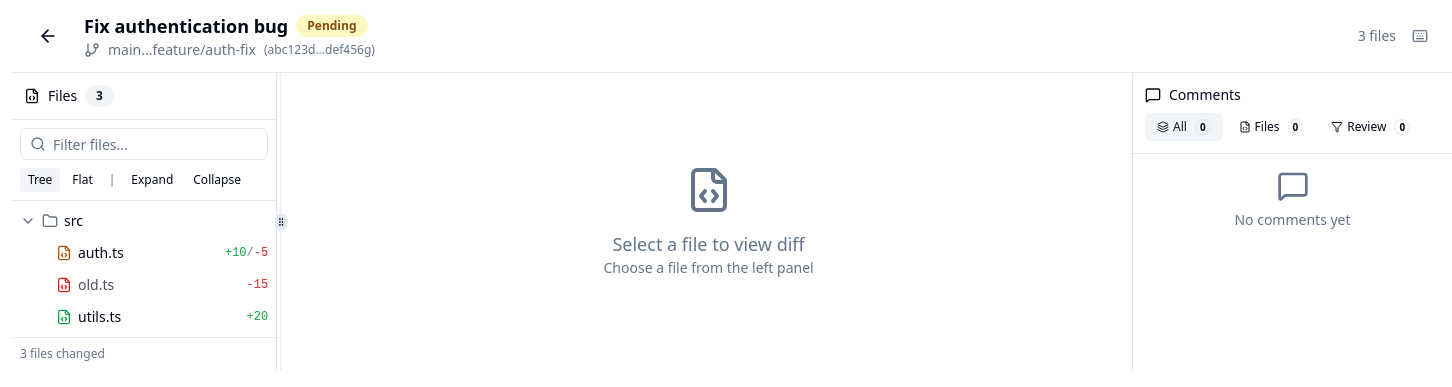
ReviewDetailPage › selects file when clicked
// Click on a file (shown as just the filename in tree view)
Click the text "auth.ts": click(101, 252) [78,243,124,262]
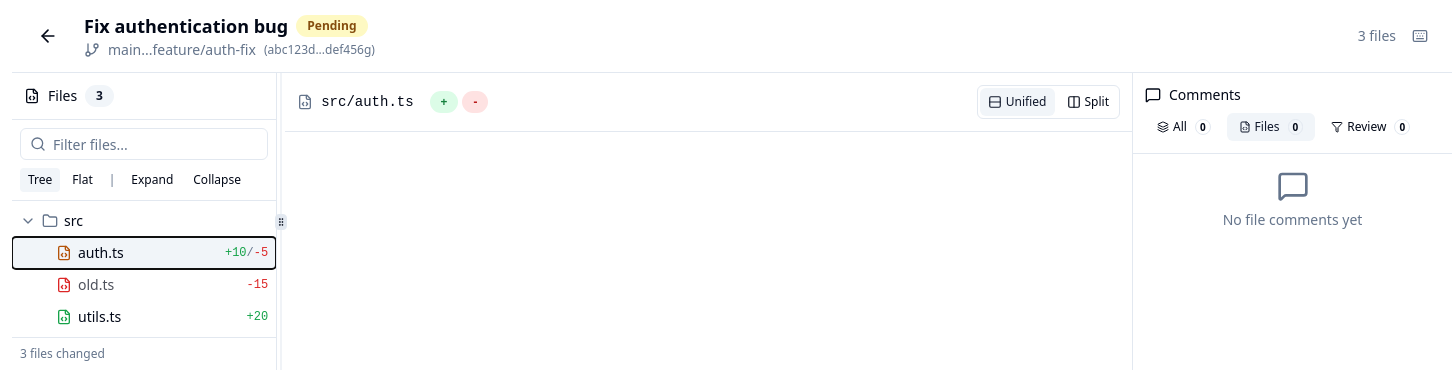
Result: the text "src/auth.ts" is shown at [321,92,414,112]
